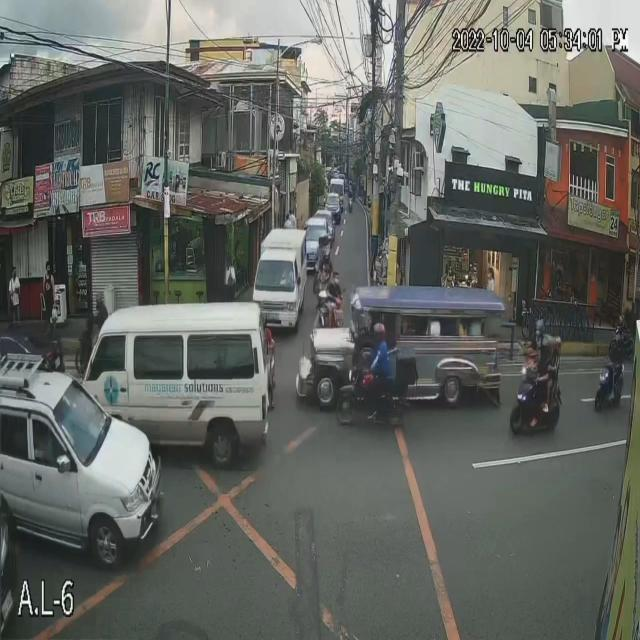Full-Faced: (369, 322, 388, 345), (540, 329, 552, 358)
